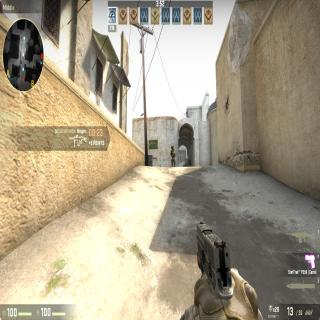CT-Body: (169, 144, 176, 167)
CT-Head: (171, 144, 174, 150)
